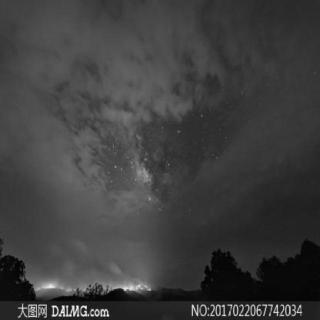Fire: (121, 278, 153, 294), (36, 282, 76, 294)
Smoke: (68, 236, 124, 278)
